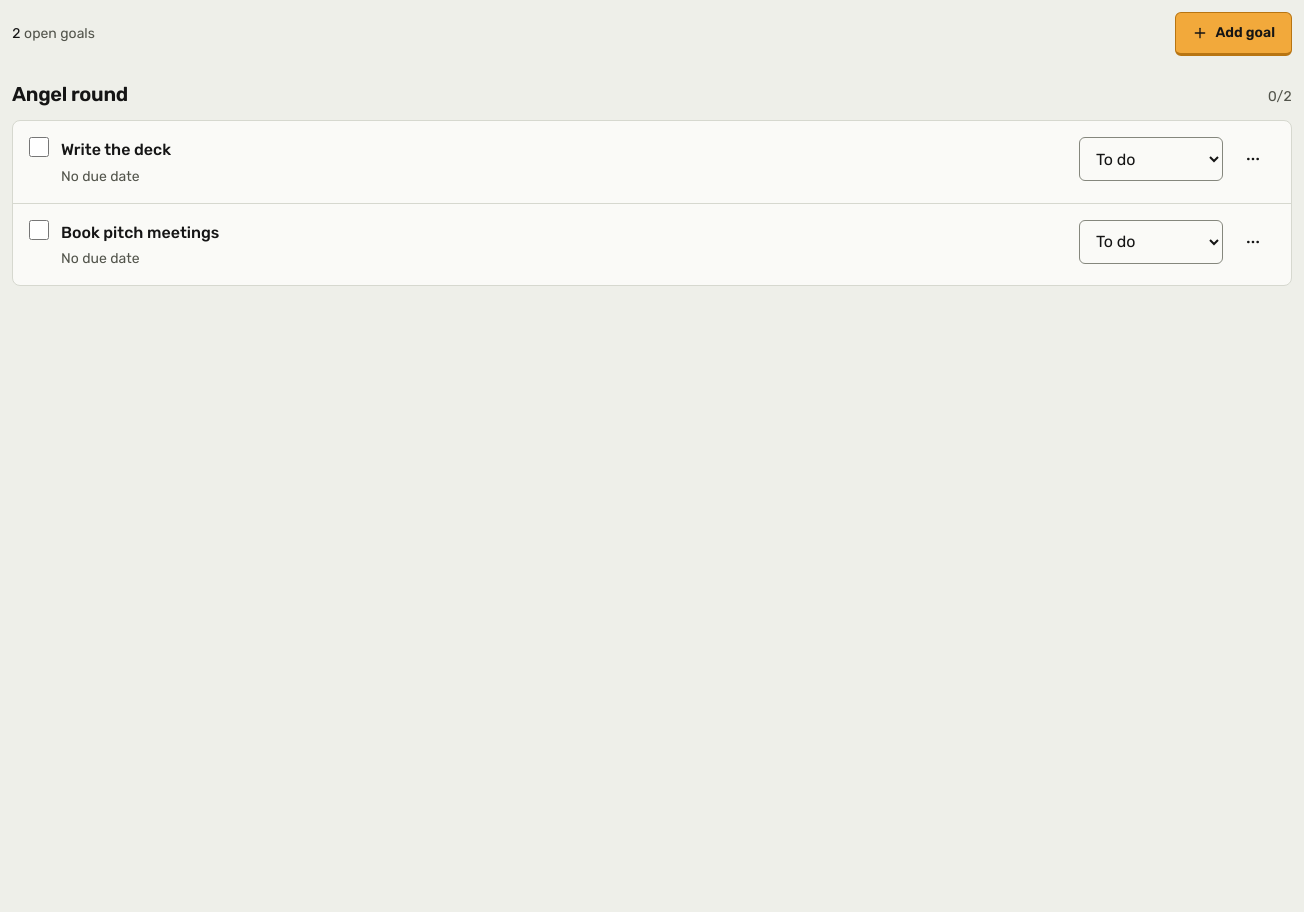
Test: GoalList milestone cheer › cheers when the last open goal of an application is ticked, and not before
Click the checkbox named "Done: Write the deck" next to "Write the deck": (39, 147) x1=29 y1=137 x2=49 y2=157
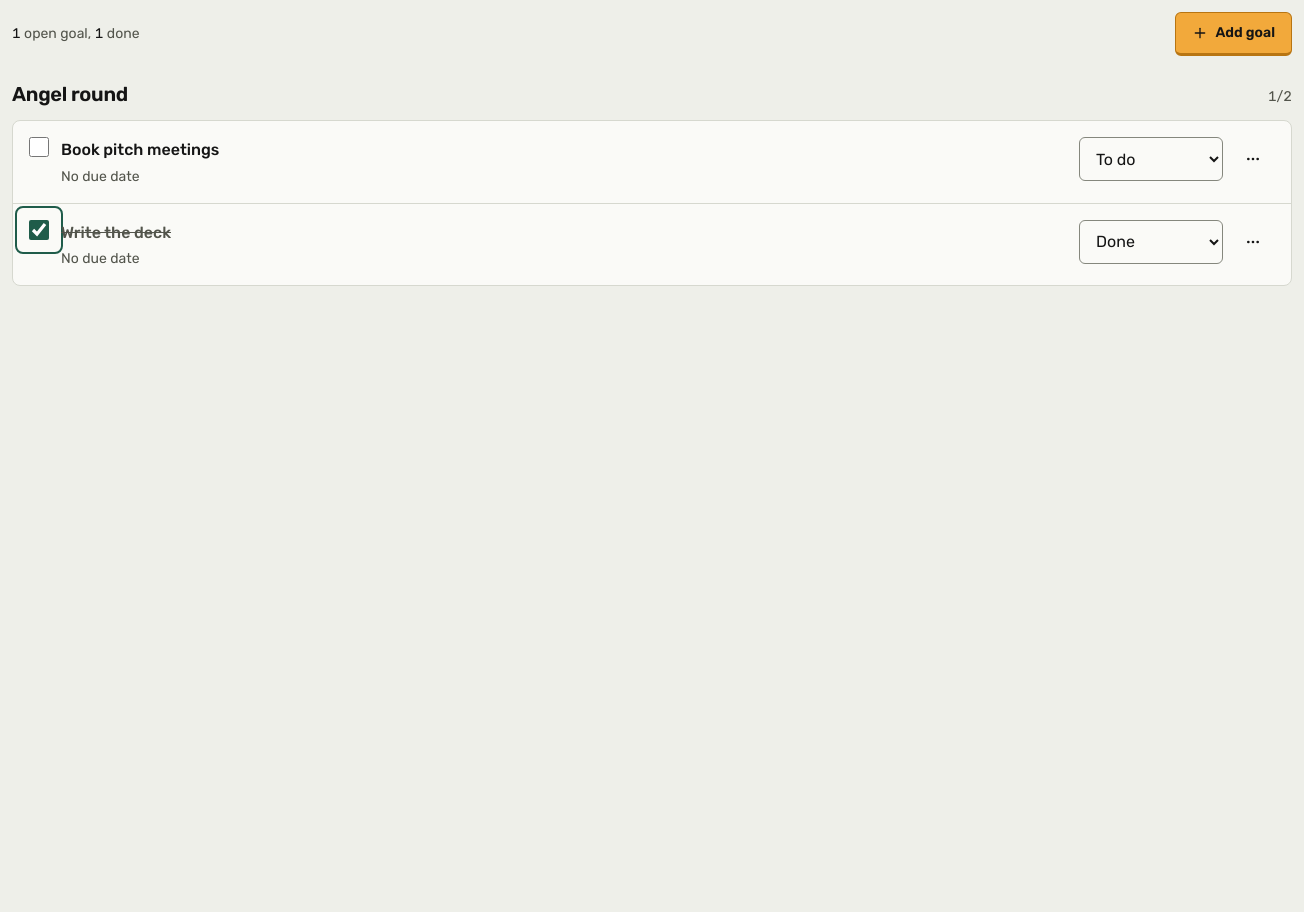
Click the checkbox named "Done: Book pitch meetings" next to "Book pitch meetings": (39, 147) x1=29 y1=137 x2=49 y2=157
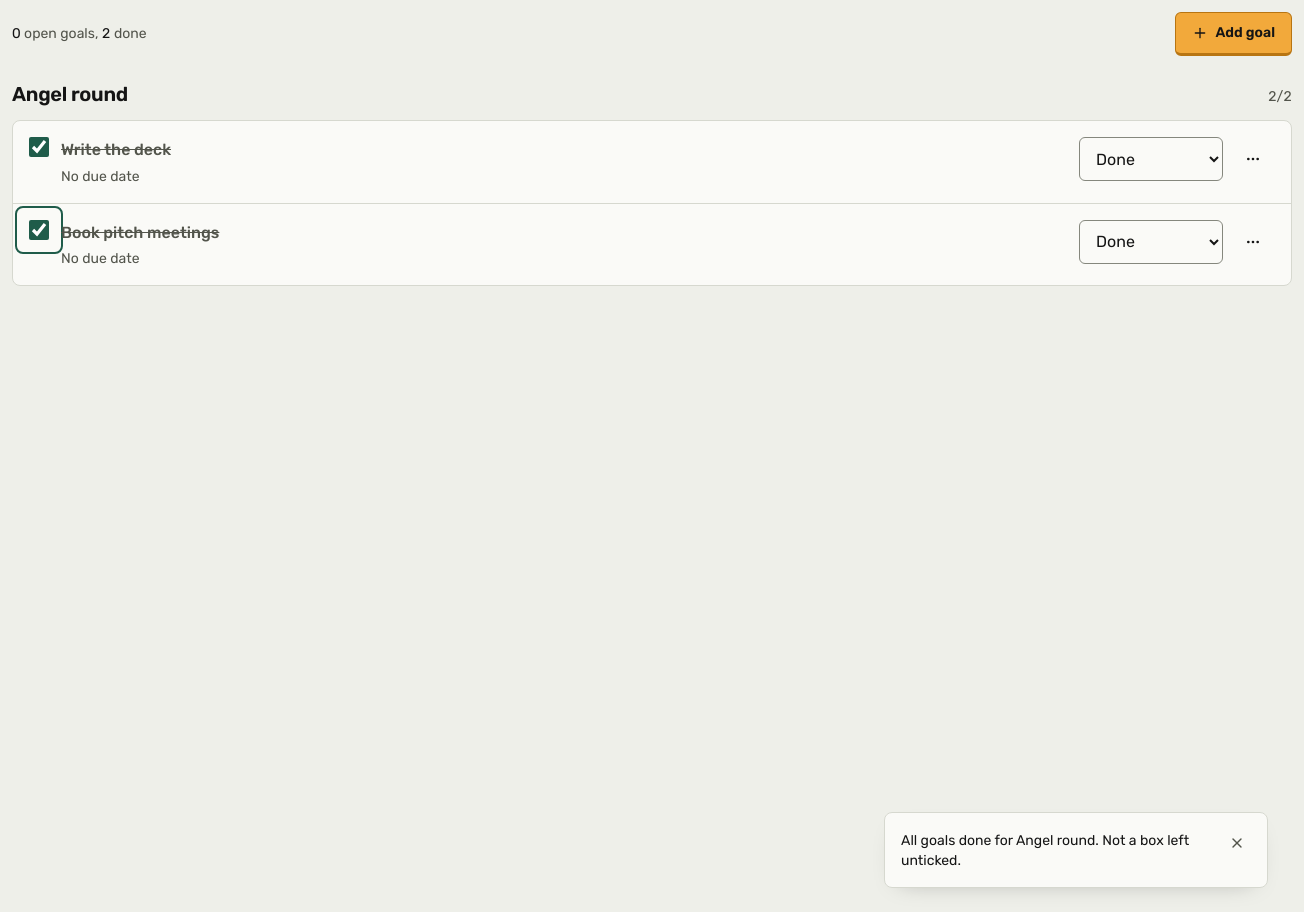
Expected: the text "All goals done for Angel round. Not a box left unticked." is shown, x1=901 y1=831 x2=1211 y2=871
